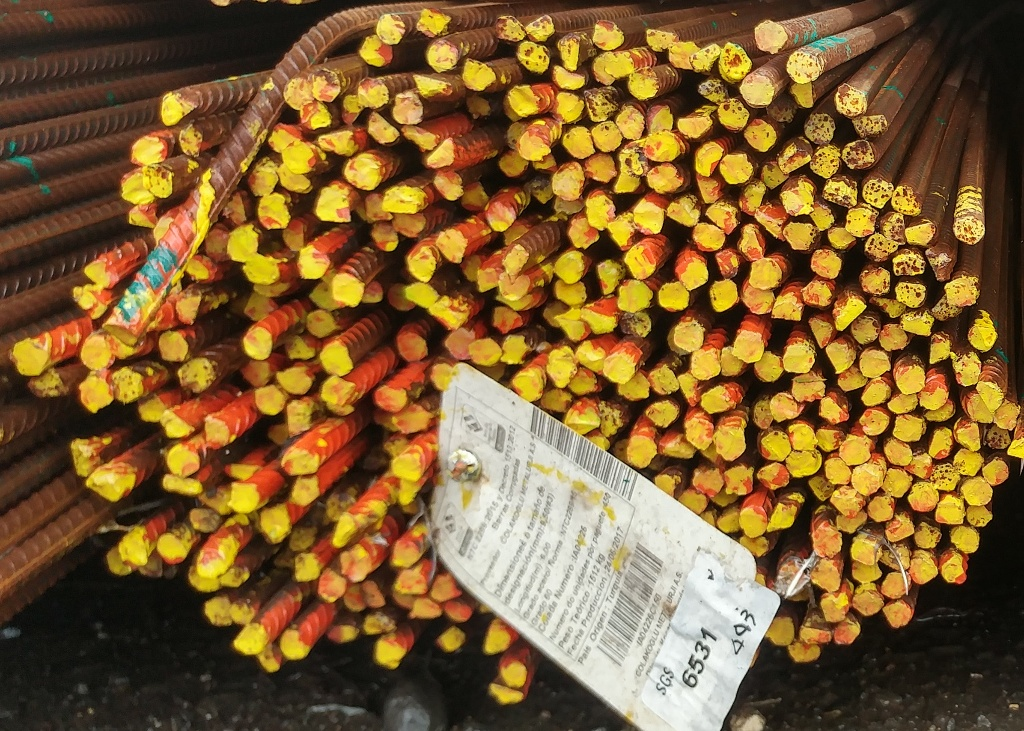dipstick: (87, 459, 135, 506), (68, 436, 111, 479), (8, 339, 54, 378), (773, 552, 812, 598), (716, 37, 753, 85), (68, 285, 117, 320), (312, 185, 355, 224), (115, 166, 159, 204), (74, 371, 114, 412), (502, 85, 546, 122), (592, 51, 638, 86), (381, 182, 429, 215), (424, 294, 469, 329), (738, 69, 778, 108), (319, 376, 358, 416), (325, 484, 369, 519), (318, 339, 357, 378), (512, 38, 552, 76), (629, 198, 667, 238), (442, 323, 480, 363), (175, 357, 216, 394), (666, 317, 708, 353), (126, 134, 174, 165), (751, 17, 789, 56), (342, 153, 381, 191), (79, 333, 117, 372), (341, 580, 387, 612), (833, 82, 870, 121), (565, 396, 602, 435), (247, 156, 283, 196), (259, 503, 293, 545), (22, 369, 71, 398), (772, 288, 811, 324), (741, 276, 777, 315), (518, 124, 554, 163), (227, 224, 266, 260), (717, 149, 757, 184), (675, 252, 710, 292), (711, 422, 746, 462), (938, 548, 973, 588), (940, 275, 981, 309), (332, 267, 365, 309), (682, 410, 714, 453), (784, 49, 822, 85), (951, 209, 987, 247), (361, 109, 400, 144), (241, 324, 276, 363), (232, 621, 271, 656), (154, 330, 194, 364), (157, 405, 197, 439), (483, 618, 517, 658), (422, 39, 463, 72), (755, 200, 788, 241), (748, 259, 789, 292), (705, 199, 741, 236), (833, 297, 870, 333), (257, 192, 293, 229), (433, 227, 469, 264), (140, 163, 176, 200), (165, 439, 201, 476), (338, 544, 374, 581), (807, 522, 844, 558), (880, 538, 917, 574), (777, 136, 812, 174), (551, 160, 586, 198), (841, 139, 880, 173), (845, 200, 879, 239), (607, 212, 641, 251), (768, 389, 808, 422), (657, 428, 697, 461), (579, 303, 620, 335), (241, 254, 283, 285), (823, 173, 859, 209), (396, 327, 432, 363), (111, 367, 147, 403), (423, 135, 460, 170), (780, 179, 814, 217), (757, 429, 795, 463), (306, 69, 344, 103), (968, 309, 998, 352), (717, 94, 750, 133), (624, 242, 657, 281), (790, 370, 829, 403), (784, 447, 824, 479), (951, 347, 982, 388), (590, 16, 626, 51), (743, 116, 778, 152), (280, 137, 316, 172), (809, 142, 843, 179), (584, 86, 618, 123), (598, 398, 632, 435), (416, 6, 454, 39), (861, 173, 894, 211), (830, 485, 868, 518), (465, 336, 503, 369), (509, 367, 547, 400), (923, 244, 955, 283), (406, 243, 438, 282), (644, 397, 683, 429), (585, 189, 614, 232), (315, 130, 361, 157), (392, 404, 433, 434), (730, 329, 765, 364), (723, 461, 758, 496), (460, 56, 494, 92), (958, 474, 995, 507), (295, 245, 332, 278), (277, 364, 314, 397), (278, 629, 315, 662), (573, 336, 605, 374), (764, 500, 802, 532), (646, 163, 685, 194), (835, 433, 874, 464), (737, 222, 767, 262), (888, 249, 928, 279), (665, 192, 699, 227), (553, 89, 588, 123), (906, 480, 941, 514), (358, 34, 393, 68), (153, 530, 188, 564), (811, 558, 845, 593), (950, 521, 984, 556), (375, 10, 408, 46), (410, 73, 454, 100), (499, 655, 532, 691), (644, 130, 681, 162), (277, 164, 314, 196), (701, 382, 738, 414), (82, 258, 119, 290), (557, 31, 585, 73), (910, 547, 940, 586), (619, 310, 659, 339), (181, 256, 221, 285), (603, 350, 637, 384), (625, 432, 659, 466), (881, 465, 914, 500), (484, 198, 519, 231), (693, 140, 725, 176), (657, 281, 693, 313), (560, 126, 596, 158), (892, 359, 924, 395), (617, 280, 654, 311), (802, 608, 833, 645), (614, 371, 652, 401), (954, 415, 984, 453), (373, 382, 411, 412), (390, 452, 428, 482), (846, 112, 888, 139), (865, 291, 907, 318), (547, 343, 571, 390), (667, 38, 701, 71), (802, 110, 835, 144), (627, 66, 660, 100), (553, 251, 587, 284), (787, 420, 821, 453), (392, 90, 424, 125), (115, 534, 150, 566), (331, 509, 359, 549), (176, 123, 207, 159), (757, 460, 793, 491), (282, 446, 319, 476), (285, 476, 322, 506), (202, 411, 232, 448), (160, 474, 208, 497), (644, 25, 682, 54), (884, 388, 923, 416), (308, 282, 347, 310), (821, 454, 854, 487), (253, 643, 286, 676), (692, 463, 725, 496), (802, 276, 834, 310), (160, 92, 194, 124), (221, 192, 255, 224), (913, 519, 947, 551), (694, 169, 725, 204), (782, 340, 817, 371), (952, 447, 987, 478), (926, 424, 957, 459), (876, 210, 907, 245), (853, 581, 884, 616), (677, 115, 717, 142), (121, 202, 161, 229), (880, 599, 916, 629), (501, 243, 530, 280), (551, 279, 588, 308), (929, 293, 966, 322), (390, 209, 428, 237), (788, 76, 820, 109), (808, 249, 841, 281), (860, 264, 892, 297), (648, 364, 680, 397), (981, 454, 1013, 487), (357, 77, 390, 109), (496, 332, 529, 364), (784, 218, 815, 252), (824, 340, 855, 374), (138, 393, 172, 424), (710, 277, 740, 312), (819, 396, 854, 426), (890, 413, 925, 443), (394, 567, 429, 597), (615, 103, 644, 139), (583, 152, 615, 184), (817, 593, 849, 625), (849, 313, 880, 346), (589, 121, 622, 152), (569, 215, 600, 248), (266, 122, 299, 153), (371, 637, 404, 668), (739, 503, 770, 536), (882, 437, 916, 467), (963, 392, 993, 426), (284, 75, 314, 109), (406, 280, 440, 310), (364, 609, 399, 638), (596, 258, 622, 297), (899, 309, 935, 337), (286, 400, 314, 436), (184, 563, 220, 591), (834, 610, 862, 646), (689, 43, 720, 75), (692, 221, 724, 252), (936, 494, 967, 526), (229, 481, 261, 512), (812, 424, 845, 454), (929, 462, 962, 492), (893, 185, 923, 218), (254, 382, 284, 415), (390, 538, 423, 568), (903, 222, 941, 248), (737, 180, 766, 214), (715, 246, 743, 281), (567, 366, 602, 394), (244, 291, 279, 319), (175, 289, 202, 325), (318, 567, 345, 603), (219, 459, 263, 481), (486, 682, 523, 708), (689, 349, 720, 380), (857, 345, 888, 376), (860, 376, 891, 407), (460, 181, 491, 212), (526, 13, 556, 45), (836, 364, 868, 394), (858, 406, 890, 436), (917, 380, 949, 410), (678, 369, 702, 409), (866, 492, 896, 524), (387, 279, 416, 312), (293, 551, 322, 584), (488, 305, 522, 333), (204, 226, 232, 260), (428, 573, 463, 600), (551, 65, 587, 91), (152, 296, 178, 332), (645, 104, 675, 135), (370, 223, 401, 253), (754, 348, 782, 381), (769, 615, 797, 648), (978, 376, 1002, 414), (398, 124, 436, 148), (809, 197, 835, 232), (475, 260, 501, 295), (851, 462, 881, 492), (433, 170, 463, 200), (463, 94, 494, 123), (298, 101, 329, 130), (364, 193, 393, 224), (100, 542, 129, 573), (493, 15, 526, 42), (696, 78, 729, 105), (553, 315, 586, 342), (878, 321, 905, 354), (894, 281, 929, 306), (284, 334, 319, 359), (434, 627, 469, 652), (759, 158, 789, 187), (523, 175, 552, 205), (200, 549, 229, 579), (717, 504, 746, 534), (498, 150, 529, 178), (881, 571, 912, 599), (304, 310, 337, 336), (376, 433, 413, 456), (718, 345, 746, 375), (202, 597, 232, 625), (290, 526, 320, 554), (505, 120, 532, 151), (805, 476, 837, 502), (227, 598, 259, 624), (848, 561, 884, 584), (540, 388, 573, 413), (190, 506, 223, 531), (862, 234, 890, 263), (850, 537, 878, 566), (654, 468, 682, 497), (442, 597, 472, 624), (282, 220, 307, 252), (675, 487, 707, 512), (808, 316, 832, 349), (996, 399, 1020, 432), (363, 445, 392, 472), (827, 222, 857, 248), (929, 332, 954, 363), (407, 597, 442, 619), (964, 504, 997, 527), (985, 424, 1011, 453), (755, 396, 777, 430), (790, 642, 824, 664), (460, 255, 487, 282), (541, 300, 569, 326), (218, 566, 251, 588), (551, 193, 585, 214), (138, 550, 163, 577), (342, 96, 365, 125), (326, 625, 358, 645), (263, 423, 291, 445), (711, 490, 739, 508), (363, 282, 384, 304)
